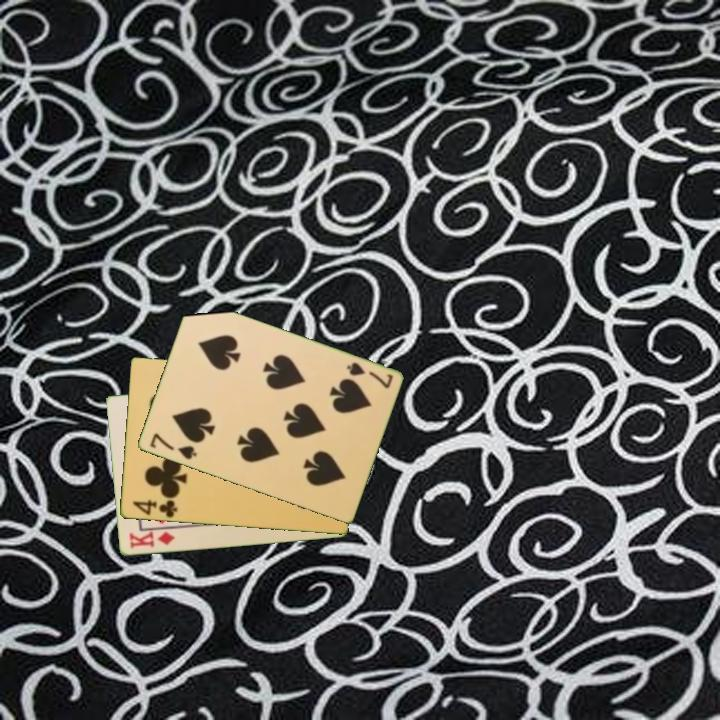4c: (129, 496, 179, 520)
7s: (146, 430, 199, 463), (343, 359, 396, 391)
Kd: (125, 528, 177, 551)
